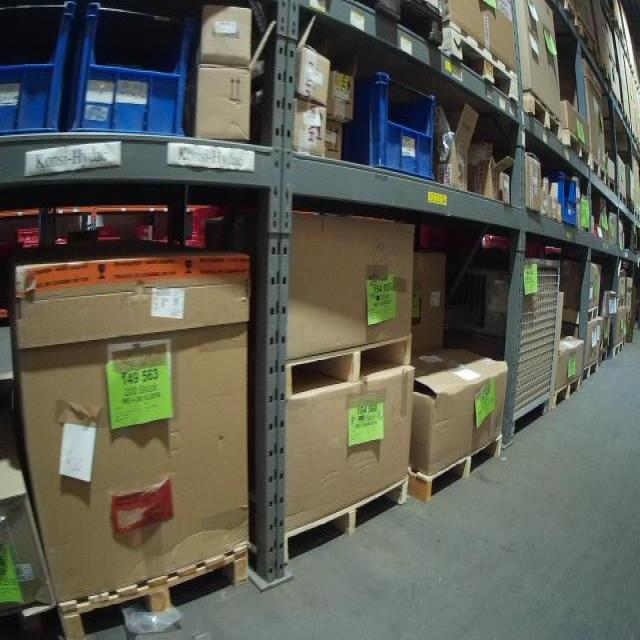pallet: (55, 539, 250, 637), (286, 474, 412, 567), (286, 324, 414, 404), (414, 427, 504, 509), (442, 20, 523, 108), (325, 1, 443, 56), (520, 98, 570, 149), (549, 370, 582, 411), (562, 304, 599, 329), (572, 135, 593, 172), (580, 355, 600, 386), (592, 154, 608, 187), (597, 341, 613, 368), (615, 185, 631, 207), (612, 339, 625, 361), (608, 173, 616, 201)
small_load_carrier: (78, 4, 203, 147), (336, 72, 446, 185), (3, 2, 76, 136), (553, 169, 584, 231)
stillage: (438, 249, 561, 445)
